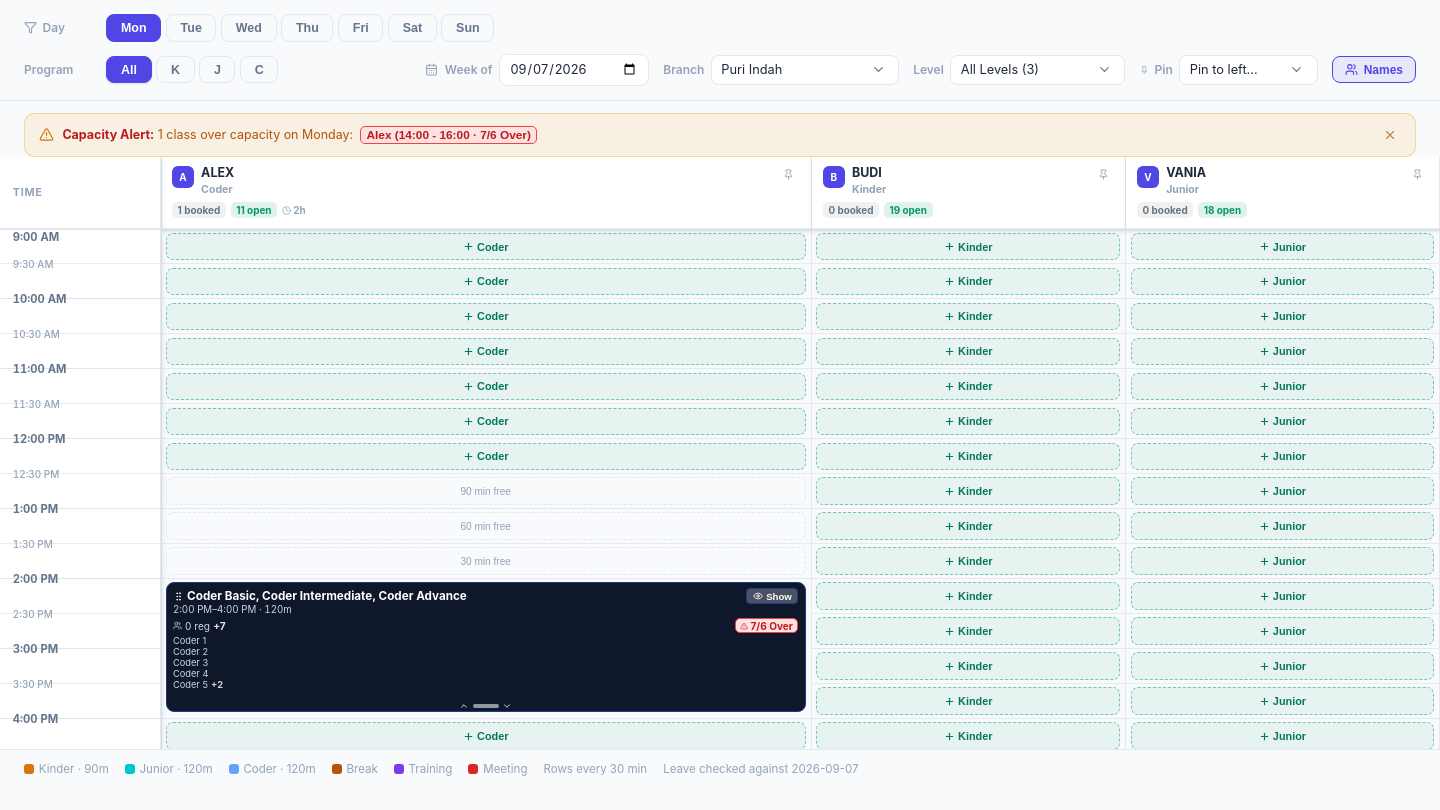
Test: ScheduleGrid UI Integration (Multi-Lesson & Capacity Notifications) › Coder class does NOT show multi-lesson warning, but DOES alert when exceeding 6 students capacity
Expected: the element with test id "capacity-over-badge" is shown, [735,618,798,633]
Expected: the element with test id "capacity-over-badge" reads "7/6 Over", [750,620,793,632]
Click to preview
Click the button with test id "capacity-over-badge" at [327, 596], box [166,582,806,712]
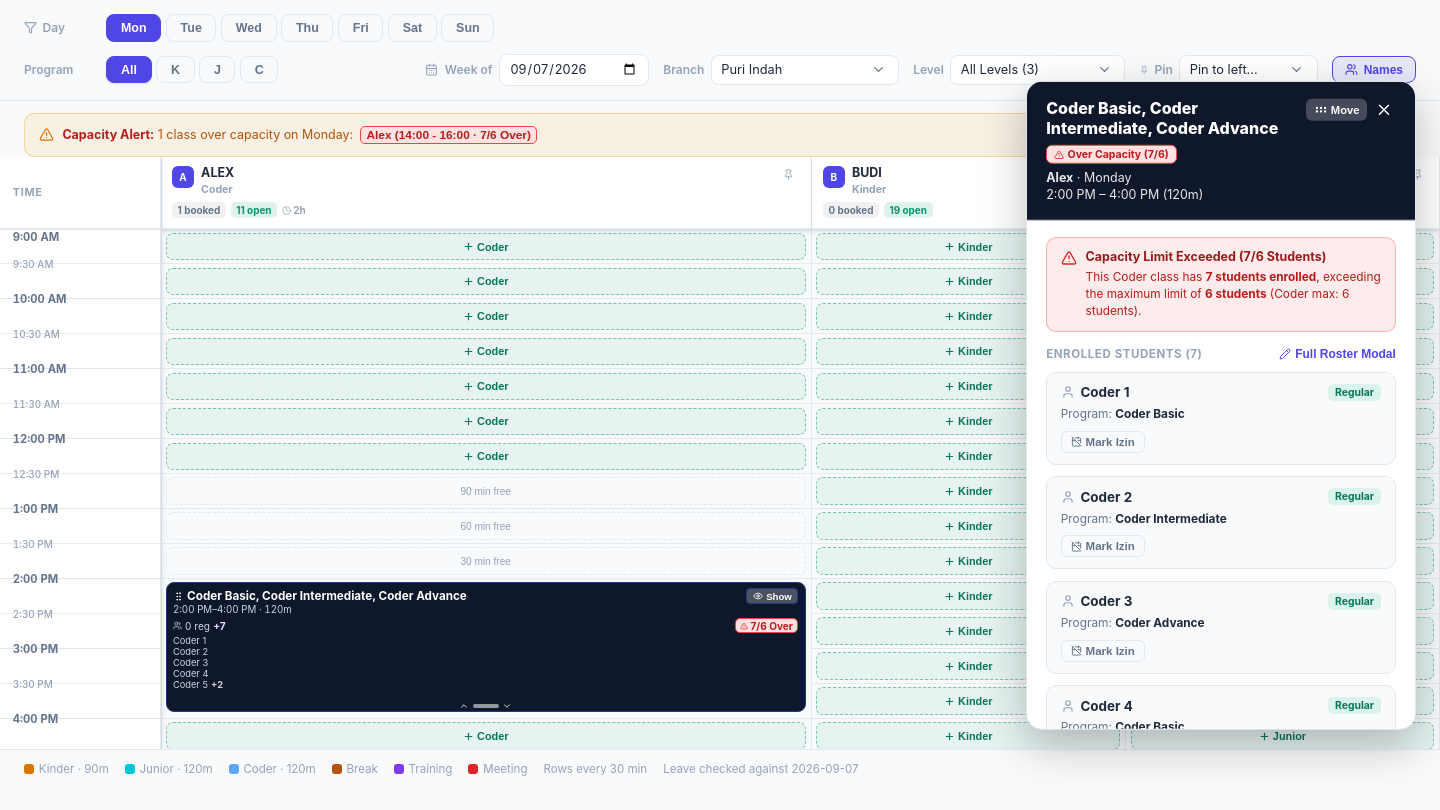
Now the element with test id "preview-capacity-over-badge" reads "Over Capacity (7/6)", box [1046,145,1177,164]
Now the element with test id "preview-capacity-alert" is shown, box [1046,236,1396,331]
Now the element with test id "preview-capacity-alert" shows "Coder max: 6", box [1274,286,1349,300]
